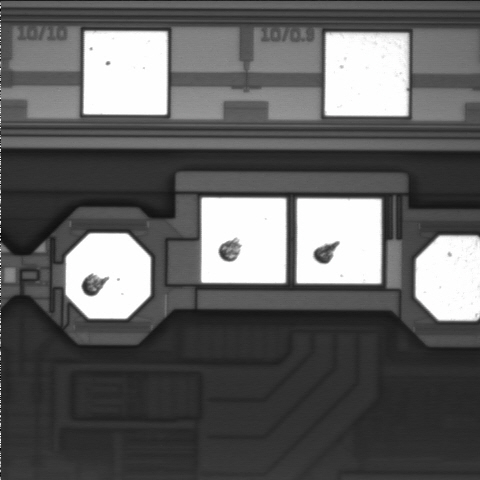pad: (66, 233, 151, 319), (201, 198, 286, 283), (83, 31, 167, 115), (297, 199, 381, 283), (325, 33, 408, 116)
